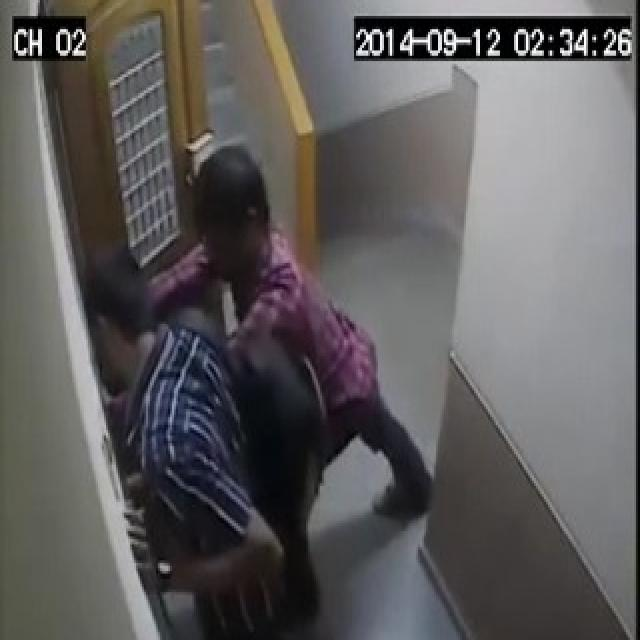burglary: (34, 229, 237, 523)
